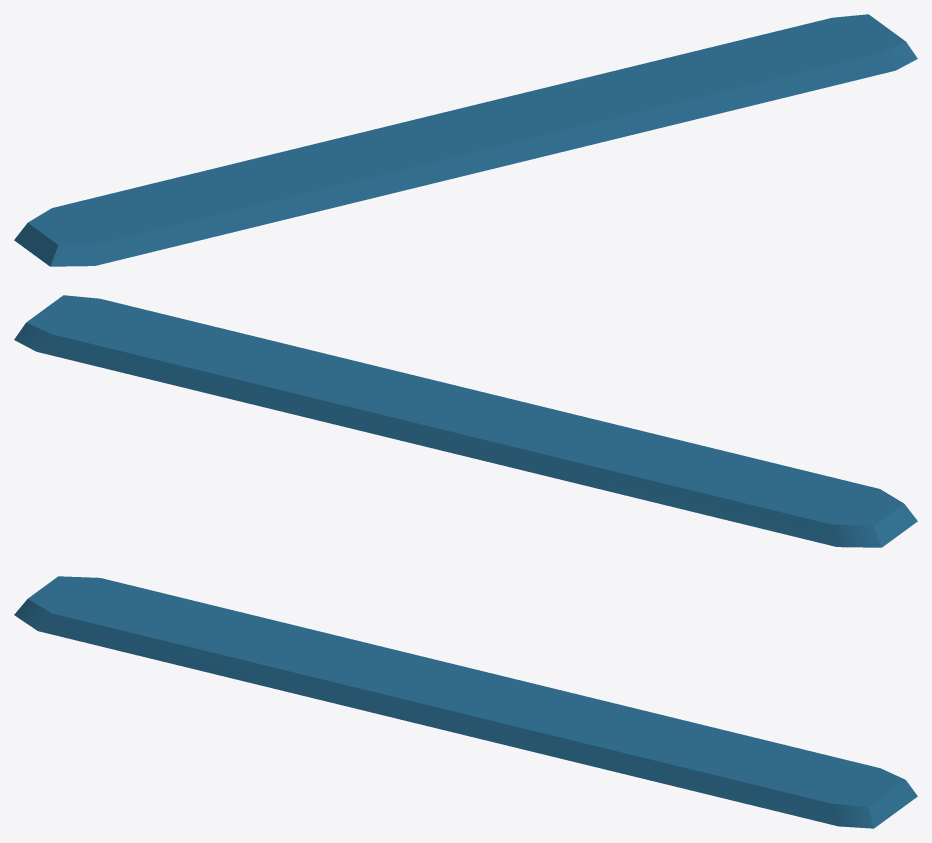
The model's file is SM_Env_Divider_01_Collision.fbx.
3 views of the same model, one above another, from view 1: azimuth 30°, elevation 25°; view 2: azimuth 150°, elevation 25°; view 3: azimuth 330°, elevation 25° (orthographic).
Parts seen in each view (by area): view 1: SM_Env_Divider_01_Collision; view 2: SM_Env_Divider_01_Collision; view 3: SM_Env_Divider_01_Collision.
Boxes of the visible parts, x1=… form: SM_Env_Divider_01_Collision: x1=14, y1=14, x2=917, y2=266; SM_Env_Divider_01_Collision: x1=14, y1=295, x2=917, y2=547; SM_Env_Divider_01_Collision: x1=14, y1=576, x2=917, y2=828.
Bounding box in the file's own units: 1285 × 24.11 × 147.
